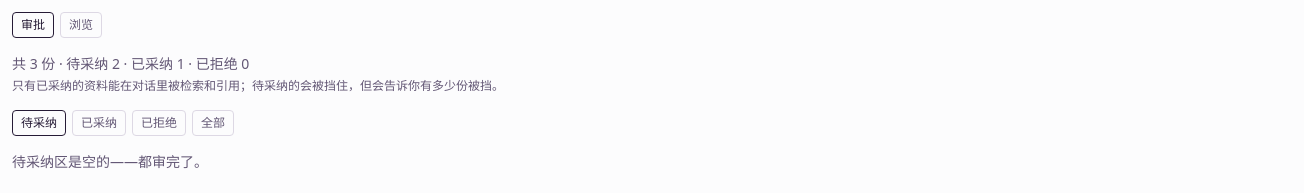
Test: TEST-448 统一浏览视图 (CR-20260915-knowledge-library-merge CP-2) › ② 翻页用新 offset 重新取数；到底时「下一页」禁用
The image size is (1304, 193).
Click the button "浏览".
click(81, 25)  # box [60, 12, 102, 38]
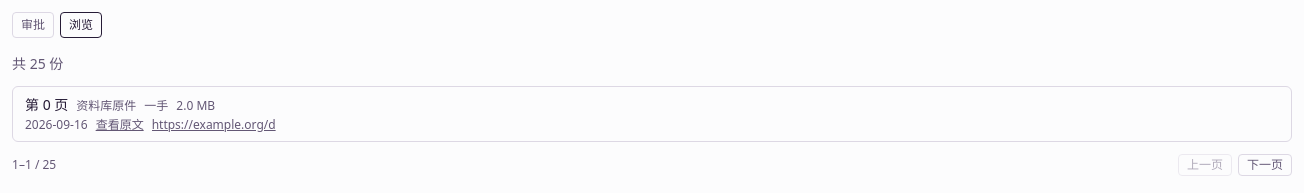
Expected: the text "第 0 页" is shown, [25, 95, 68, 115]
Expected: the button "上一页" is disabled, [1178, 154, 1232, 176]
Click the button "下一页".
click(1265, 165)  # box [1238, 154, 1292, 176]
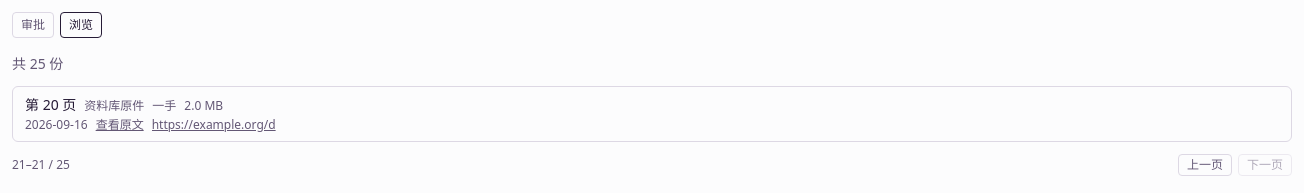
Expected: the text "第 20 页" is shown, [25, 95, 76, 115]
Expected: the button "下一页" is disabled, [1238, 154, 1292, 176]
